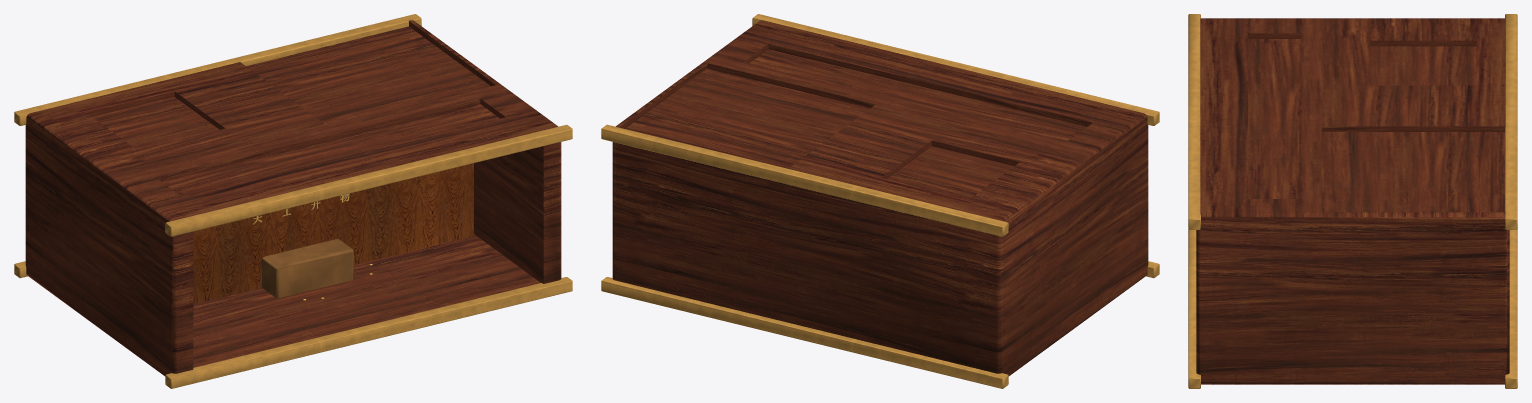
Rendered from chest.glb.
The picture shows the model from 3 angles, left to right: view 1: azimuth 30°, elevation 25°; view 2: azimuth 150°, elevation 25°; view 3: azimuth 270°, elevation 25°; orthographic projection. The views are drawn at different scales.
Parts seen in each view (by area): view 1: fc_body, fc_door, fc_铜印; view 2: fc_body; view 3: fc_body.
Part boxes in pixels (x1=…): fc_body: x1=14, y1=14, x2=572, y2=388; fc_door: x1=193, y1=163, x2=473, y2=304; fc_铜印: x1=262, y1=239, x2=353, y2=298; fc_body: x1=601, y1=14, x2=1159, y2=388; fc_body: x1=1188, y1=14, x2=1517, y2=388.
Size of the model in its own units: 0.31 by 0.12 by 0.21.
Materials: 8 (5 with a texture image).
